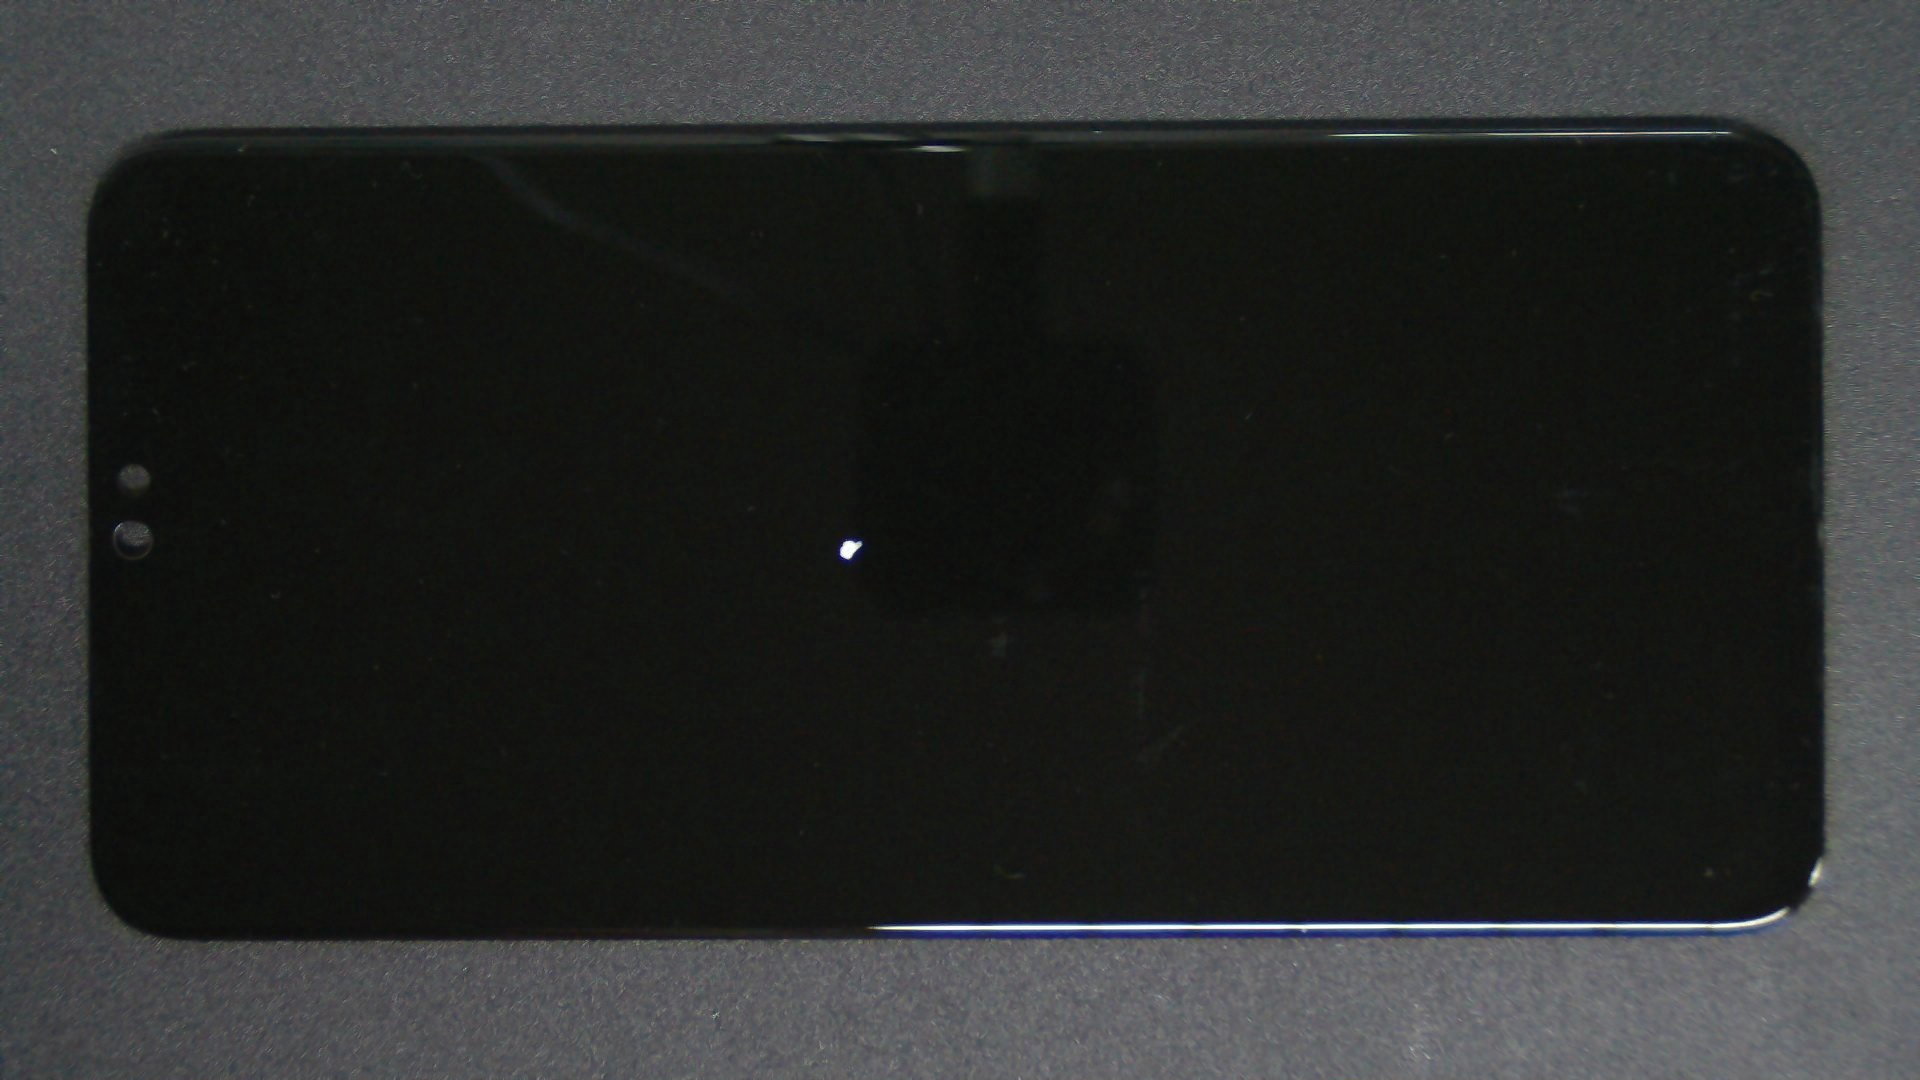oil: (425, 269, 1270, 808)
